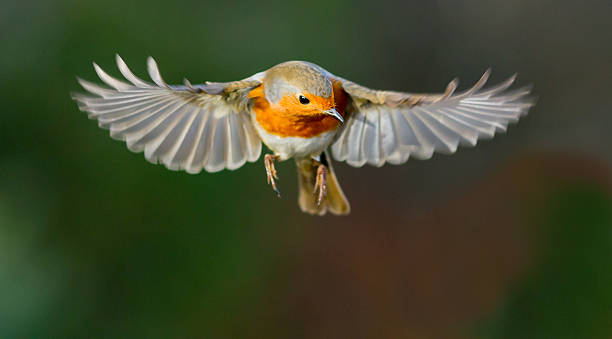Bird: (69, 48, 540, 218)
